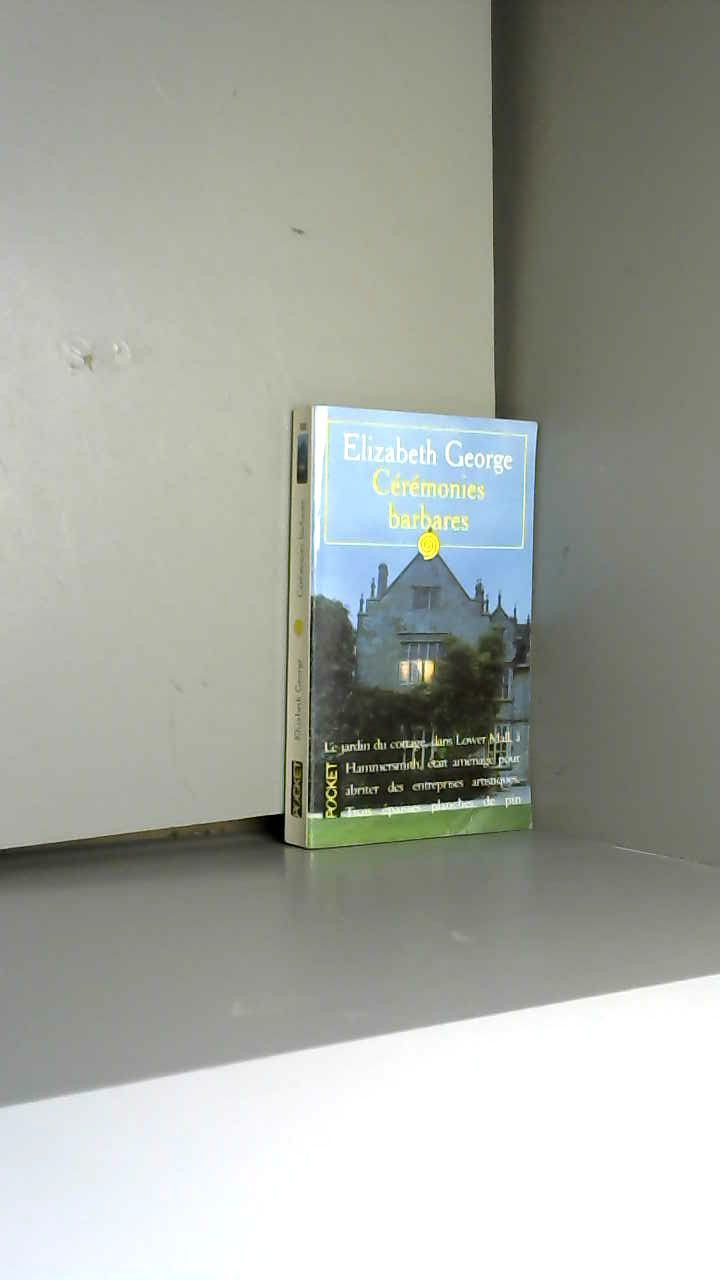book: (238, 366, 581, 897)
